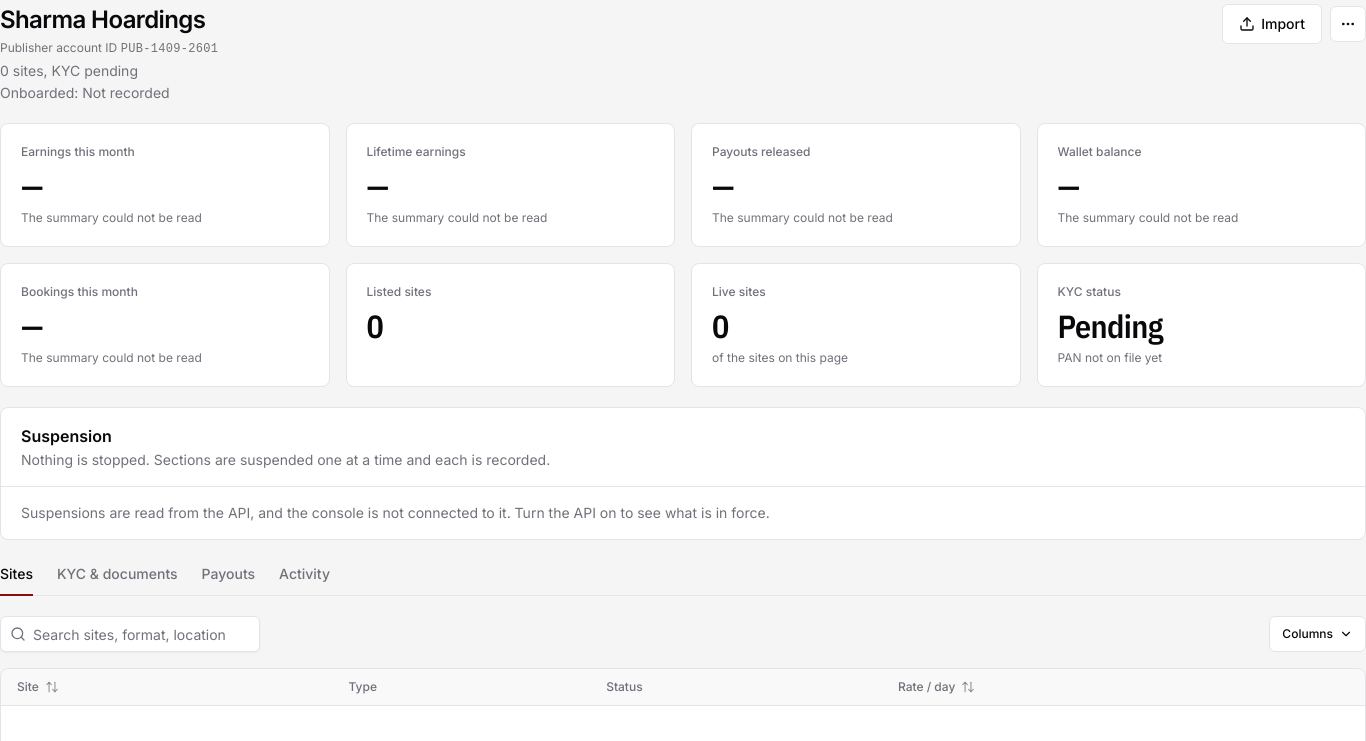
Test case: PublisherDetail over a publisher opened from the desk › fills the Identity card from the columns that hold each fact
The width and height of the screenshot is (1366, 741).
Press the mouse on the tab "KYC & documents": (117,578) [57, 560, 178, 596]
(page scrolled)
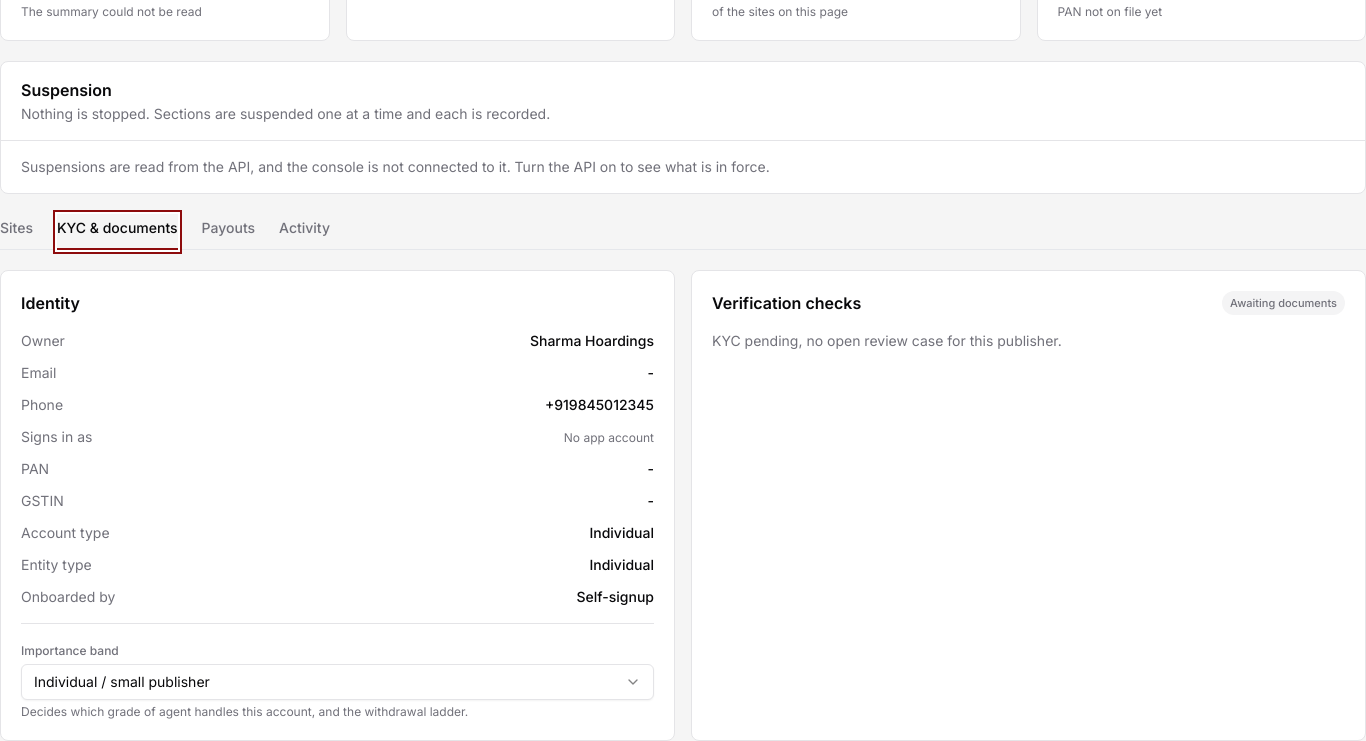
Now the text "Sharma Hoardings" is shown, box [530, 331, 654, 351]
Now the text "+919845012345" is shown, box [545, 395, 654, 415]
Now the text "Individual" in the row of "Account type" is shown, box [590, 524, 654, 541]
